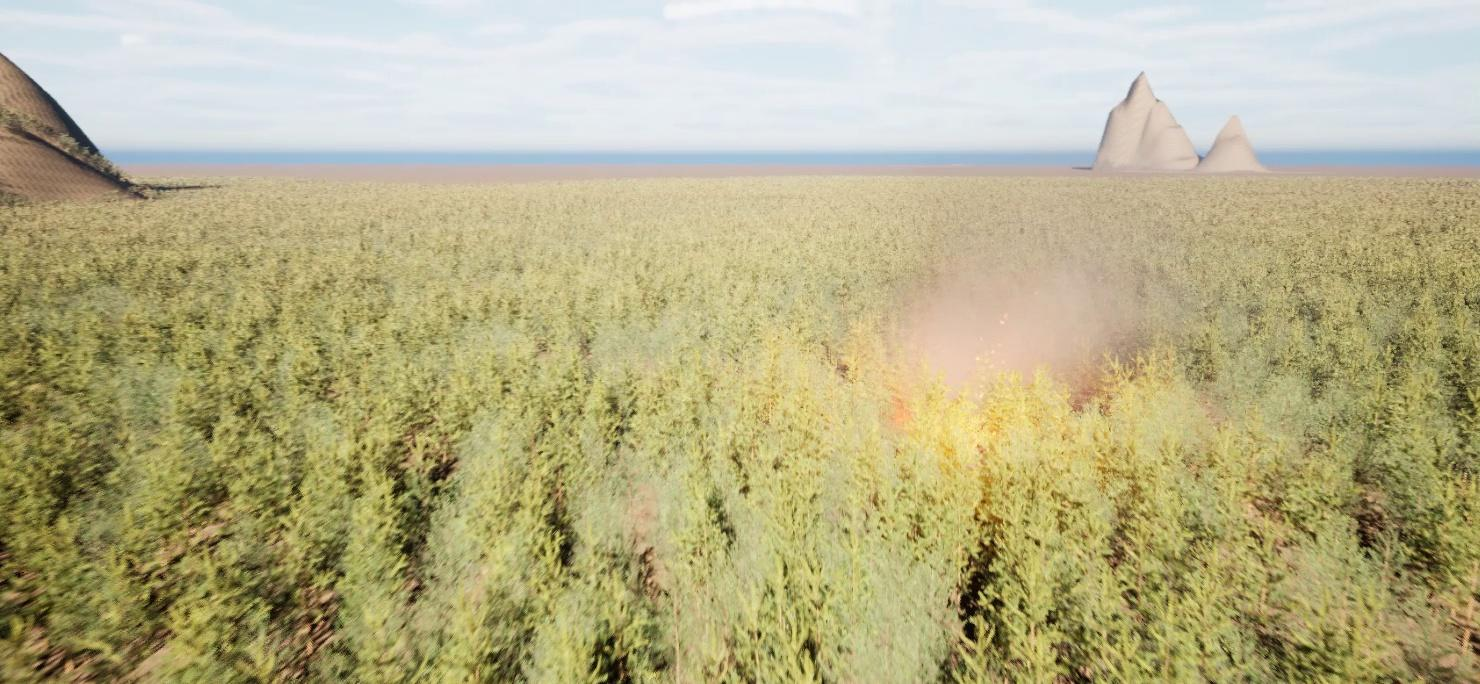smoke: (889, 244, 1133, 400)
